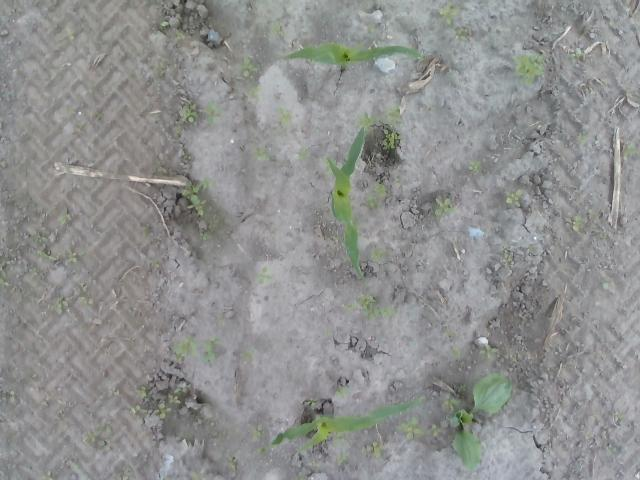Maize: (266, 393, 428, 451), (322, 125, 368, 286), (282, 40, 424, 66)
Weeds: (440, 371, 513, 473), (174, 333, 218, 366), (508, 50, 548, 86), (179, 179, 216, 217), (346, 293, 396, 320), (176, 100, 223, 128), (365, 176, 400, 209), (158, 383, 190, 419), (238, 53, 264, 96), (391, 416, 427, 442), (358, 107, 402, 127), (31, 230, 56, 260), (438, 1, 464, 26), (334, 432, 352, 466), (430, 194, 458, 215), (132, 382, 150, 414), (379, 125, 402, 150), (274, 104, 294, 126), (502, 188, 524, 208), (254, 264, 274, 286), (359, 439, 382, 458), (367, 245, 385, 267), (498, 242, 513, 266), (478, 342, 499, 359), (569, 214, 588, 232), (252, 144, 272, 160), (248, 422, 264, 441), (455, 24, 470, 44), (567, 48, 590, 60), (332, 386, 353, 399), (623, 142, 639, 159), (82, 432, 99, 448), (296, 143, 310, 161), (575, 129, 590, 145), (141, 222, 156, 238), (227, 454, 239, 474), (429, 423, 444, 438), (466, 158, 480, 174), (448, 346, 462, 362), (144, 256, 160, 269), (57, 212, 72, 225), (272, 18, 284, 34), (52, 298, 64, 314), (160, 18, 177, 29), (172, 126, 185, 140), (240, 348, 253, 362), (190, 470, 208, 480), (0, 268, 9, 288), (207, 216, 218, 232), (77, 295, 94, 305), (302, 398, 318, 408), (598, 278, 610, 290), (71, 120, 81, 134), (255, 446, 269, 456), (367, 22, 378, 34), (70, 462, 82, 473), (67, 252, 78, 264), (41, 470, 54, 480), (607, 445, 618, 456), (216, 312, 224, 327), (291, 471, 304, 480), (112, 385, 120, 399), (176, 31, 186, 42), (613, 410, 624, 420), (199, 230, 209, 241), (66, 28, 75, 40), (8, 390, 17, 402), (28, 267, 40, 276), (311, 458, 321, 468), (95, 111, 104, 122), (160, 63, 166, 78), (323, 327, 333, 336), (510, 354, 518, 363), (296, 447, 304, 454)
